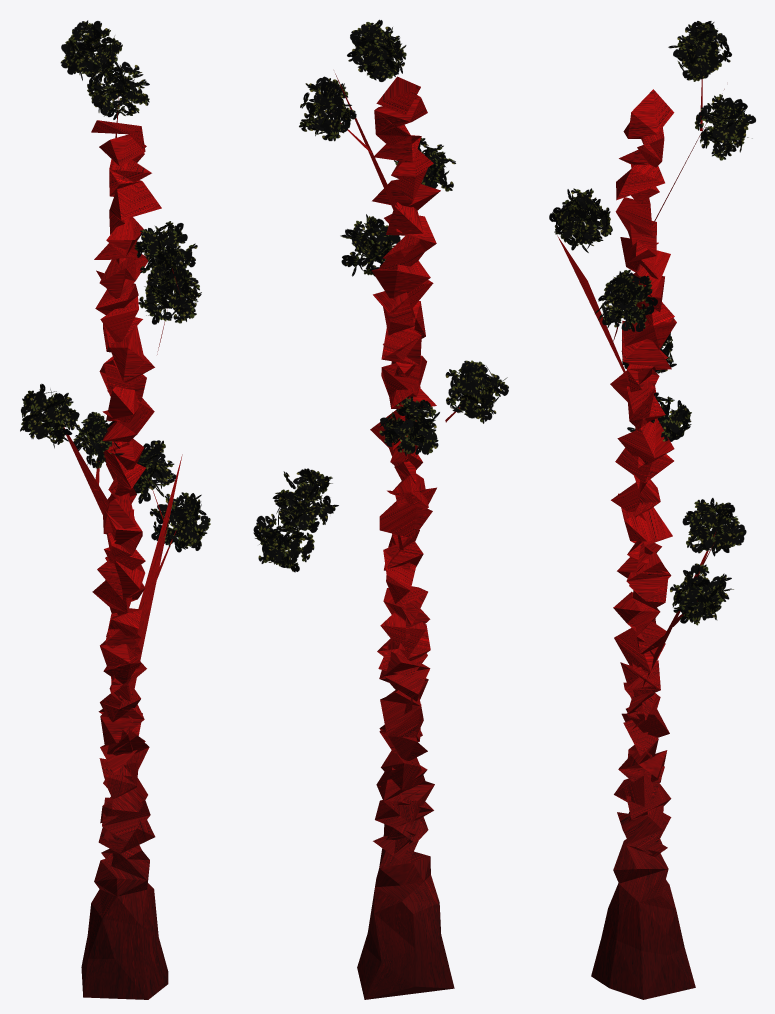
The model's file is deadwood_snag_v02_LOD2.glb.
3 renders of one model, left to right at view 1: azimuth 30°, elevation 25°; view 2: azimuth 150°, elevation 25°; view 3: azimuth 270°, elevation 25°, orthographic. The views are drawn at different scales.
Parts seen in each view (by area): view 1: deadwood_snag_v02_LOD2; view 2: deadwood_snag_v02_LOD2; view 3: deadwood_snag_v02_LOD2.
Boxes of the visible parts, bbox=[...] form: deadwood_snag_v02_LOD2: bbox=[20, 20, 210, 999]; deadwood_snag_v02_LOD2: bbox=[253, 19, 508, 999]; deadwood_snag_v02_LOD2: bbox=[549, 21, 755, 999].
Bounding box in the file's own units: 4.83 × 19.93 × 4.07.
Materials: 2 (2 with a texture image).
